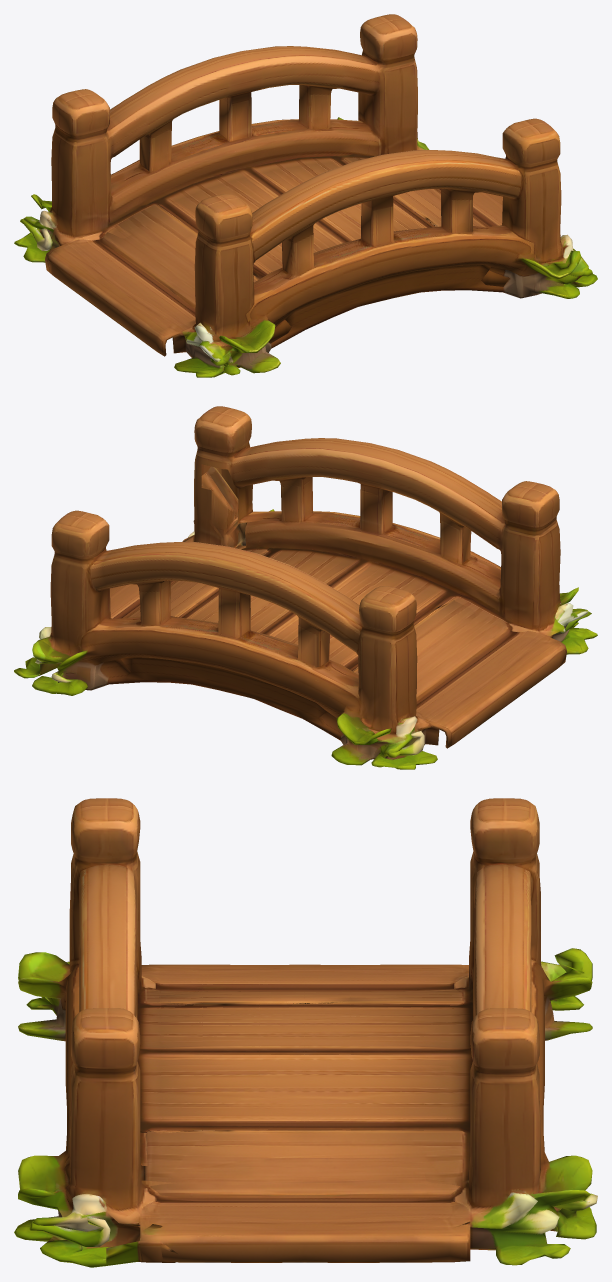
The model's file is bridge.glb.
The picture shows the model from 3 angles, top to bottom: view 1: azimuth 30°, elevation 25°; view 2: azimuth 150°, elevation 25°; view 3: azimuth 270°, elevation 25°; orthographic projection. The views are drawn at different scales.
Parts seen in each view (by area): view 1: Mesh_0.002; view 2: Mesh_0.002; view 3: Mesh_0.002.
Boxes of the visible parts, x1=… form: Mesh_0.002: x1=14, y1=14, x2=597, y2=377; Mesh_0.002: x1=14, y1=406, x2=597, y2=769; Mesh_0.002: x1=14, y1=798, x2=597, y2=1267.
Size of the model in its own units: 0.3265 by 0.12 by 0.2883.
Materials: 1 (1 with a texture image).
